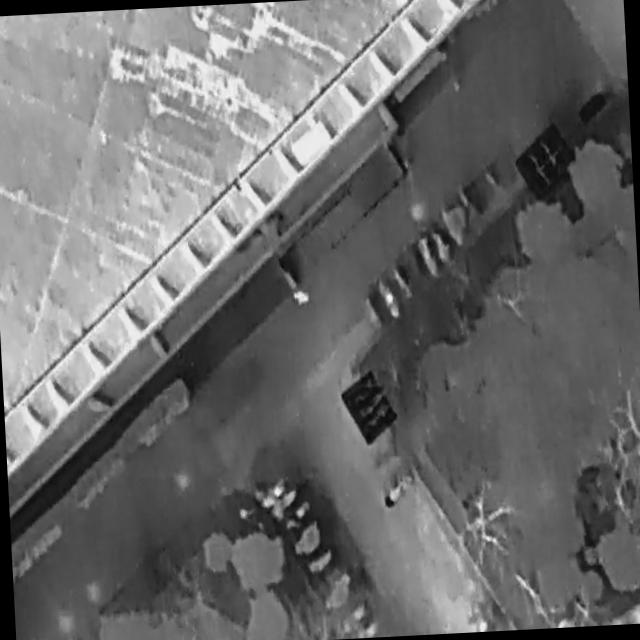person: (293, 289, 311, 306)
